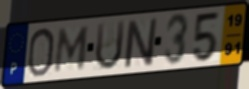3: (162, 11, 190, 69)
5: (190, 9, 225, 64)
M: (52, 25, 92, 75)
N: (123, 17, 159, 70)
O: (25, 25, 57, 79)
U: (93, 18, 127, 73)
